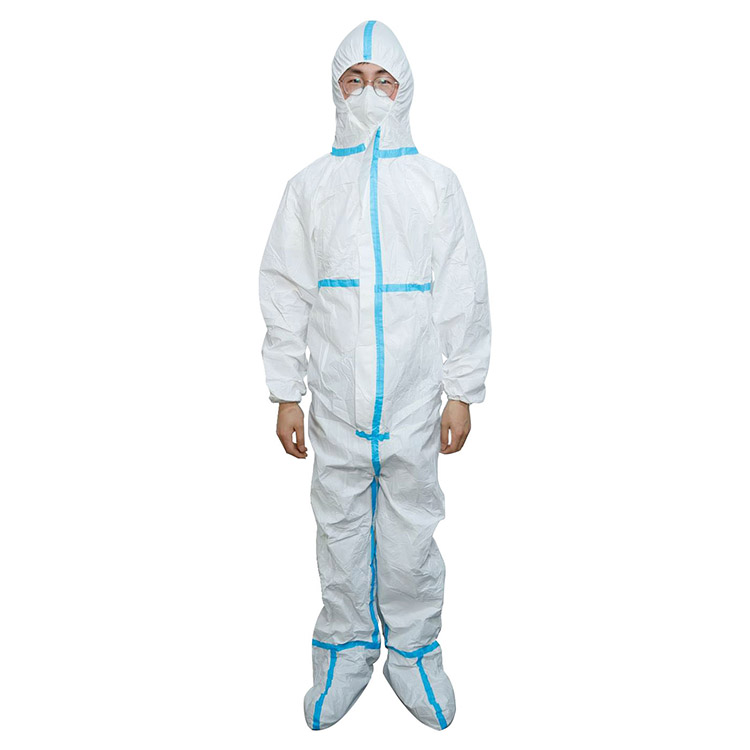Coverall: (258, 19, 489, 667)
with_mask: (344, 78, 397, 124)
